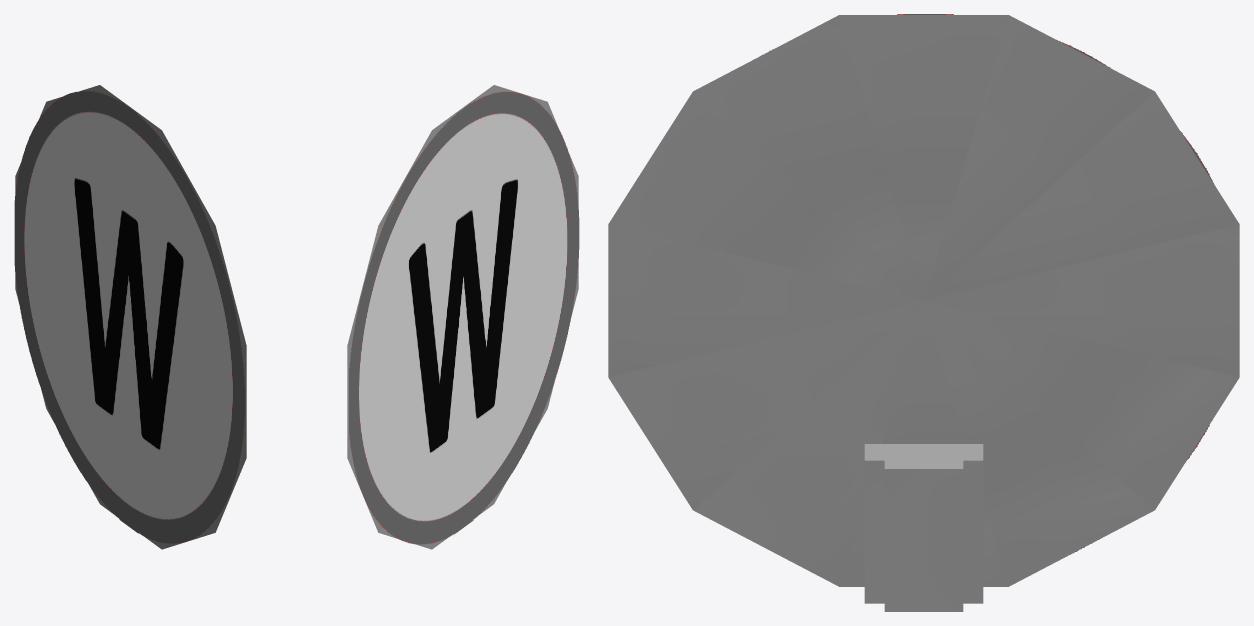
File: whistle_small.obj
3 renders of one model, left to right at view 1: azimuth 30°, elevation 25°; view 2: azimuth 150°, elevation 25°; view 3: azimuth 270°, elevation 25°, orthographic. The views are drawn at different scales.
Visible parts, largest first — view 1: cube, circle; view 2: cube, circle; view 3: circle, cube.
Boxes of the visible parts, box(x1,y1,x2,y2) form: cube: box(14, 91, 244, 543); circle: box(15, 85, 246, 549); cube: box(349, 91, 579, 544); circle: box(347, 85, 578, 549); circle: box(608, 15, 1239, 586); cube: box(761, 14, 1213, 611).
Size of the model in its own units: 0.0484 by 0.5 by 0.5.
2 materials, 2 textured.
